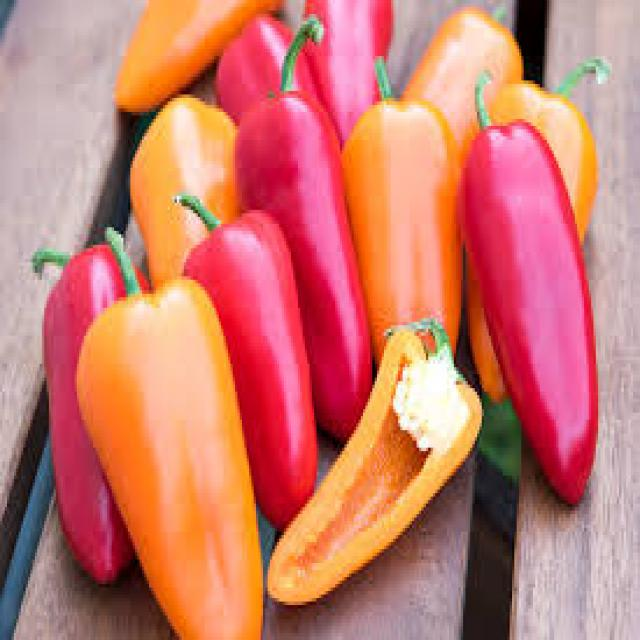organic waste: (74, 224, 263, 636), (260, 311, 480, 609), (459, 63, 598, 507), (233, 11, 370, 437), (458, 56, 610, 395), (175, 186, 314, 532), (33, 238, 149, 587), (338, 49, 458, 364), (123, 91, 240, 290), (114, 0, 289, 105), (401, 0, 522, 140), (212, 14, 309, 105)
